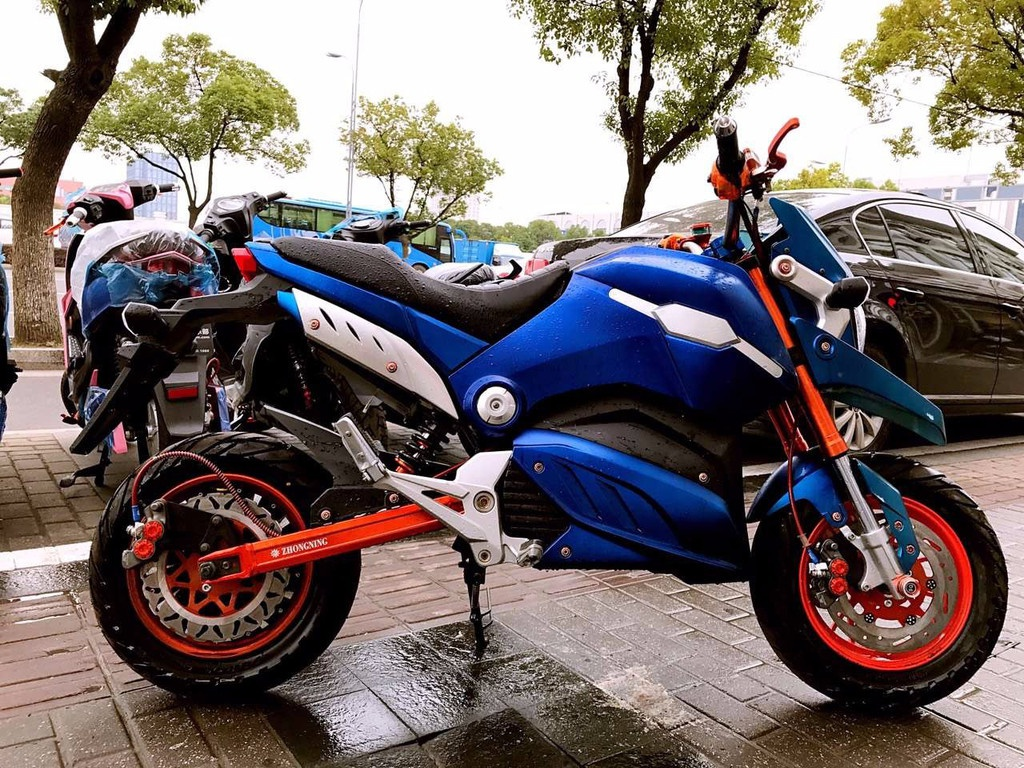non-vehicle: (85, 186, 1013, 711), (52, 174, 217, 477)
